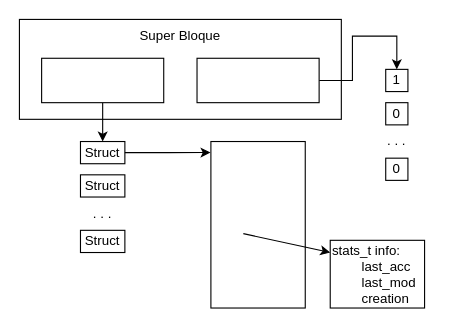
Image size: 450x327. Some labels were removed from this diagram. The shapes that lost their labels are listed below. From the top down, each one's centre as x and y in pixels, then its label:
At point (102, 80): "Inodo".
At point (257, 80): "Bitmap".
At point (257, 224): "type size id_user id_group mode info link num path content directory_path".
